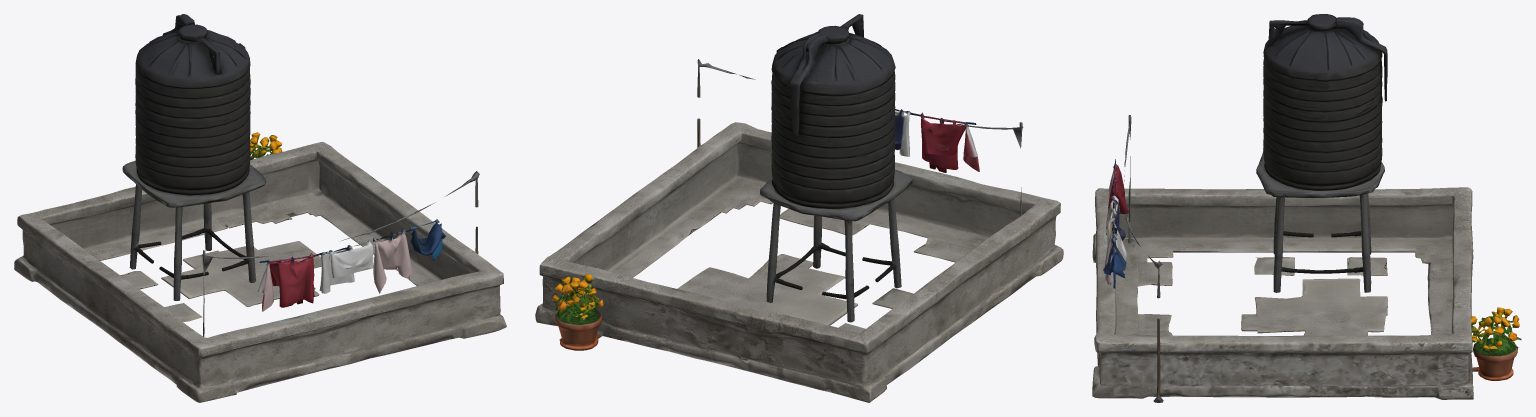
Rendered from rooftop.glb.
3 renders of one model, left to right at view 1: azimuth 30°, elevation 25°; view 2: azimuth 150°, elevation 25°; view 3: azimuth 270°, elevation 25°, orthographic. The views are drawn at different scales.
Parts seen in each view (by area): view 1: tripo_node_12a8ca1d-3c2e-4512-8916-ef790b8c3afa; view 2: tripo_node_12a8ca1d-3c2e-4512-8916-ef790b8c3afa; view 3: tripo_node_12a8ca1d-3c2e-4512-8916-ef790b8c3afa.
Part boxes in pixels (x1=…): tripo_node_12a8ca1d-3c2e-4512-8916-ef790b8c3afa: x1=14, y1=14, x2=506, y2=402; tripo_node_12a8ca1d-3c2e-4512-8916-ef790b8c3afa: x1=535, y1=14, x2=1063, y2=402; tripo_node_12a8ca1d-3c2e-4512-8916-ef790b8c3afa: x1=1092, y1=14, x2=1521, y2=402.
Size of the model in its own units: 1.46 by 1.2 by 1.66.
1 material, 1 textured.
